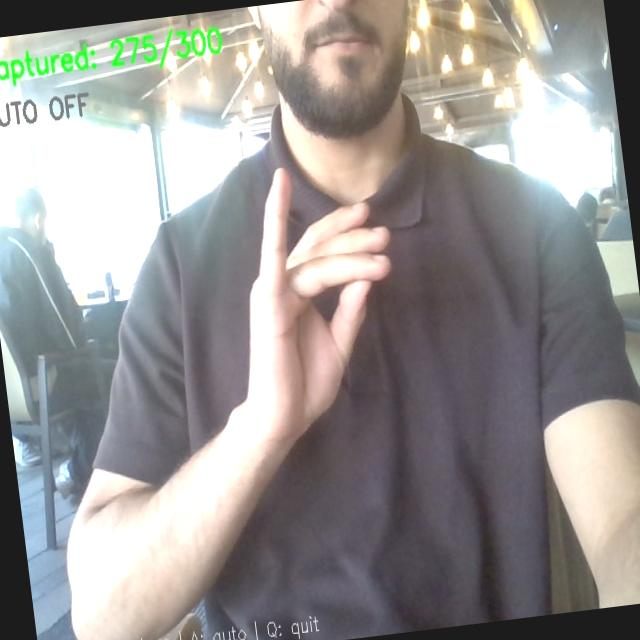Hand: (243, 170, 390, 443)
